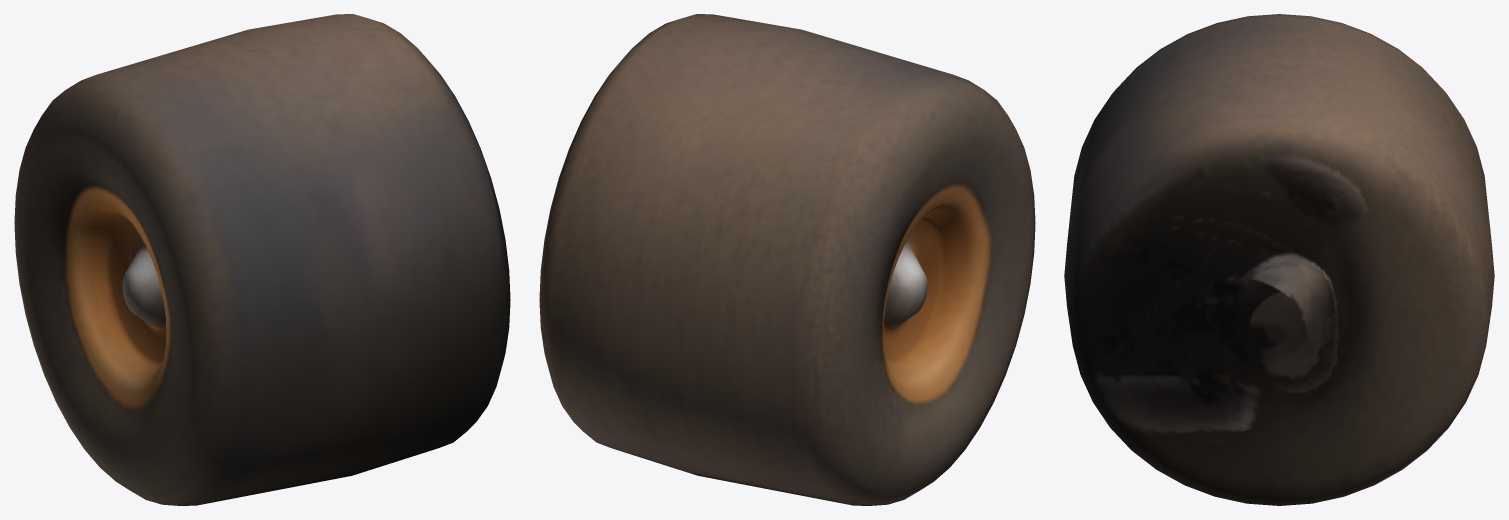
The picture shows the model from 3 angles, left to right: view 1: azimuth 30°, elevation 25°; view 2: azimuth 150°, elevation 25°; view 3: azimuth 270°, elevation 25°; orthographic projection. The views are drawn at different scales.
Visible parts, largest first — view 1: wheel_RR; view 2: wheel_RR; view 3: wheel_RR.
Boxes of the visible parts, x1,y1,x2,y2 form: wheel_RR: (14,14,510,505); wheel_RR: (539,14,1035,505); wheel_RR: (1064,14,1494,505).
Bounding box in the file's own units: 0.286 × 0.3708 × 0.3708.
1 material, 1 textured.
